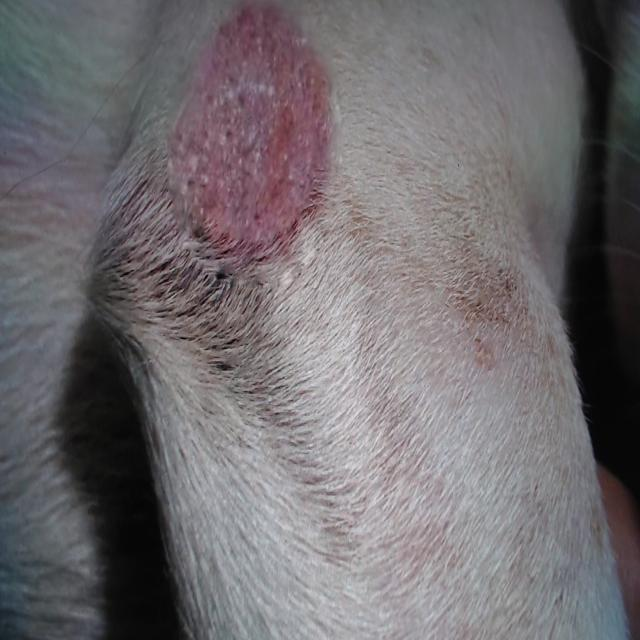ringworm: (159, 1, 346, 262)
